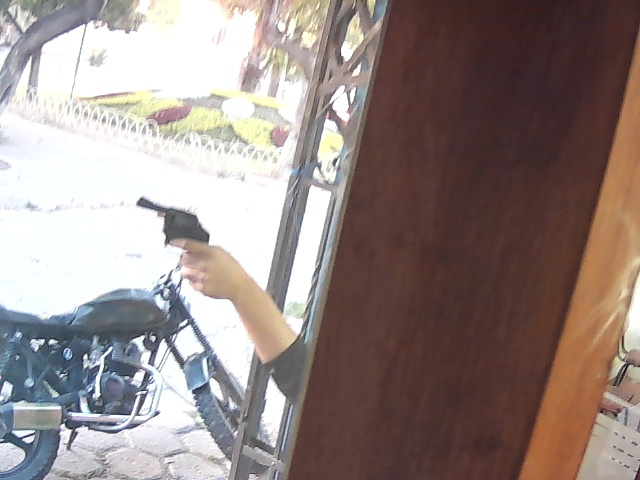pistola: (123, 188, 247, 306)
